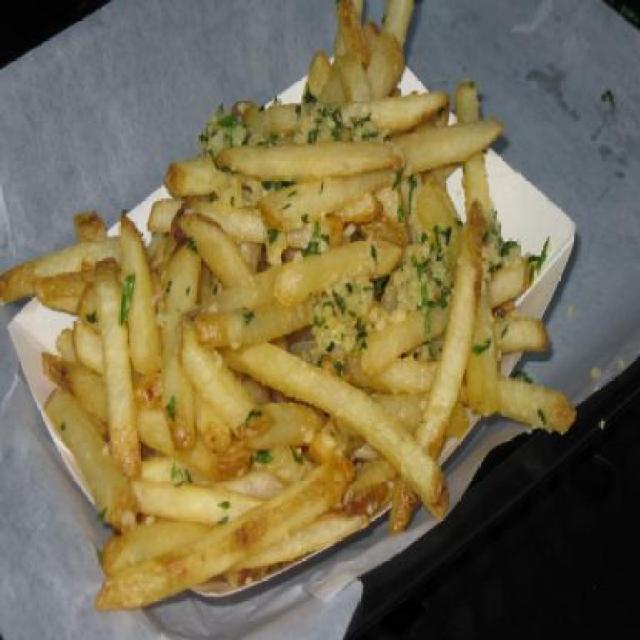French fries: (86, 88, 586, 606)
